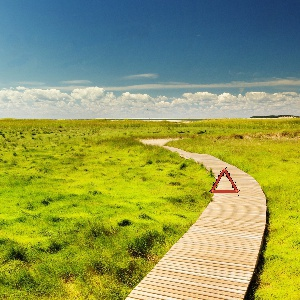triangle: (205, 163, 244, 196)
